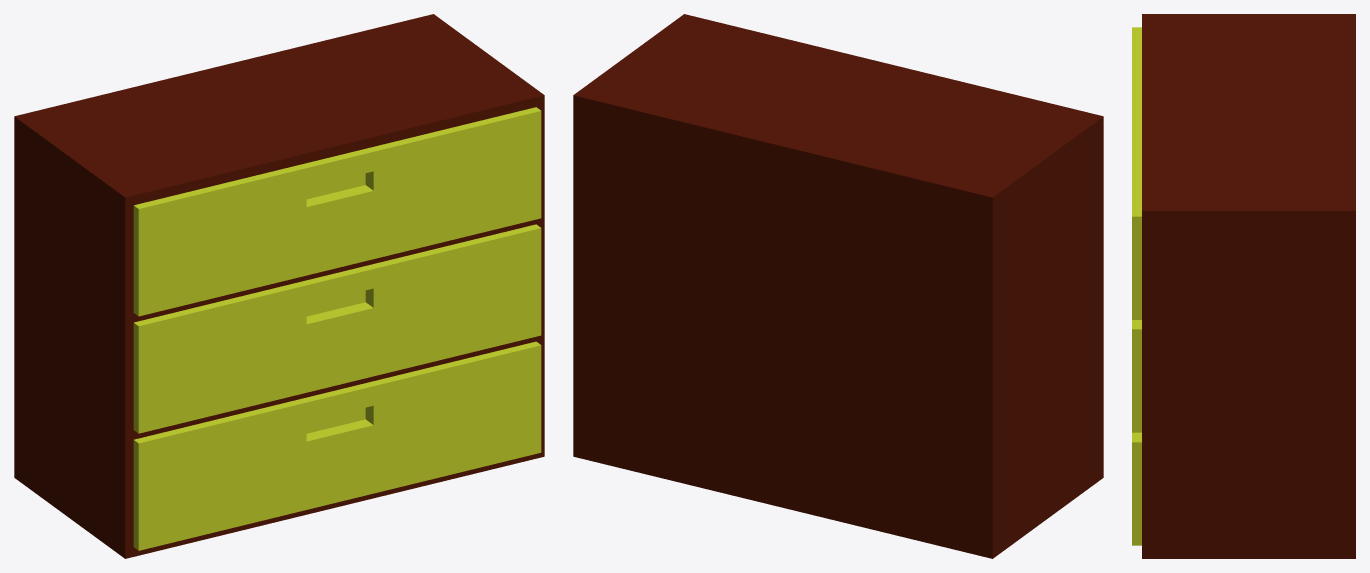
File: Clothes drawer.fbx
The picture shows the model from 3 angles, left to right: view 1: azimuth 30°, elevation 25°; view 2: azimuth 150°, elevation 25°; view 3: azimuth 270°, elevation 25°; orthographic projection. The views are drawn at different scales.
Visible parts, largest first — view 1: Clothes drawer; view 2: Clothes drawer; view 3: Clothes drawer.
Part boxes in pixels (x1,y1,x2,y2): Clothes drawer: (14,14,544,558); Clothes drawer: (573,14,1103,558); Clothes drawer: (1132,14,1355,558).
Size of the model in its own units: 0.985 by 0.8108 by 0.4725.
